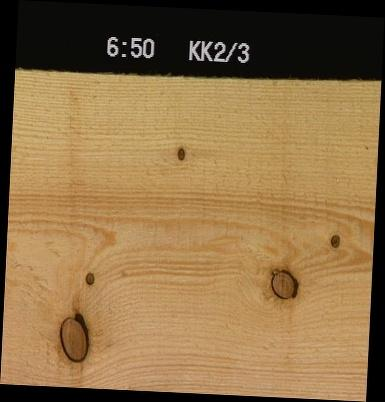dry_knot: (83, 269, 95, 286), (176, 145, 186, 161), (329, 232, 339, 248)
